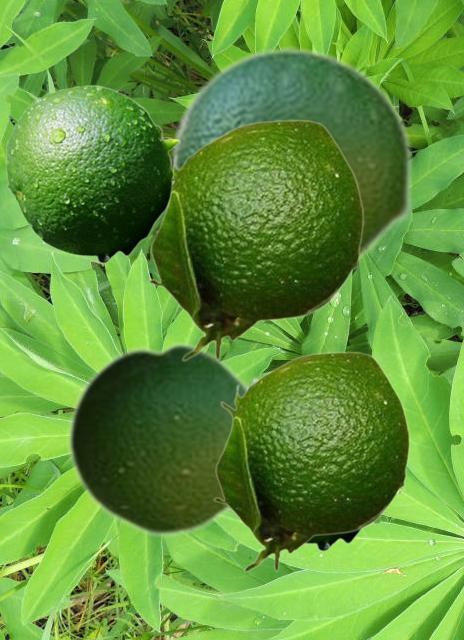dalandan: (170, 46, 413, 265), (147, 119, 363, 361), (212, 351, 409, 572), (66, 339, 249, 538), (5, 84, 179, 263), (248, 367, 363, 551)
